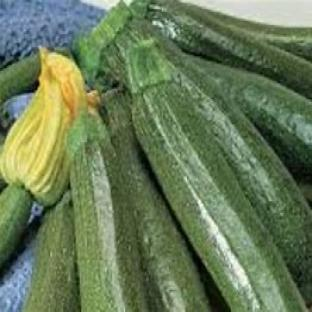Zucchini: (128, 42, 304, 311), (168, 54, 311, 301), (105, 92, 210, 311), (146, 2, 311, 99), (68, 111, 148, 311), (189, 58, 311, 175), (23, 193, 79, 311), (0, 185, 32, 269), (0, 54, 40, 106)
